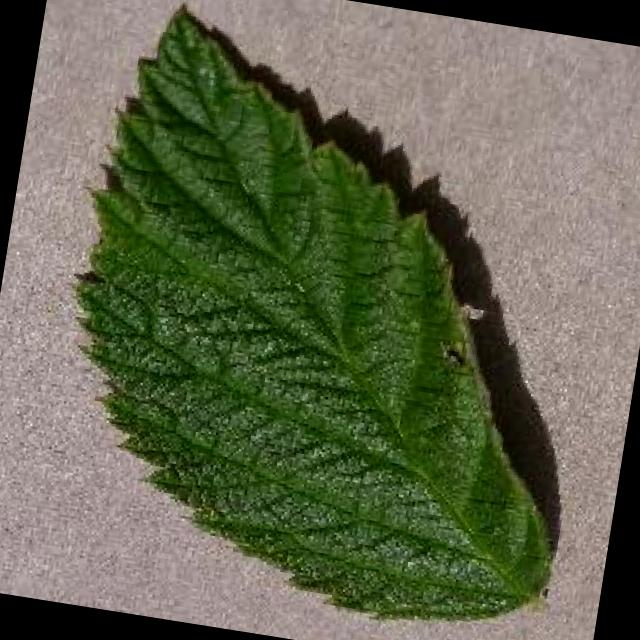healthy: (78, 10, 550, 619)
